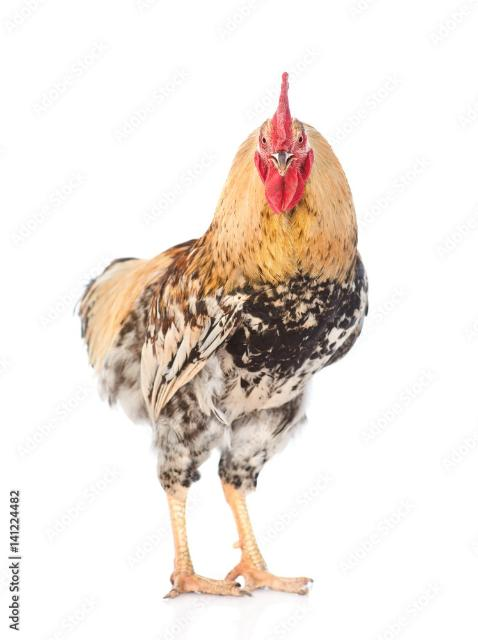Chicken: (79, 71, 369, 600)
